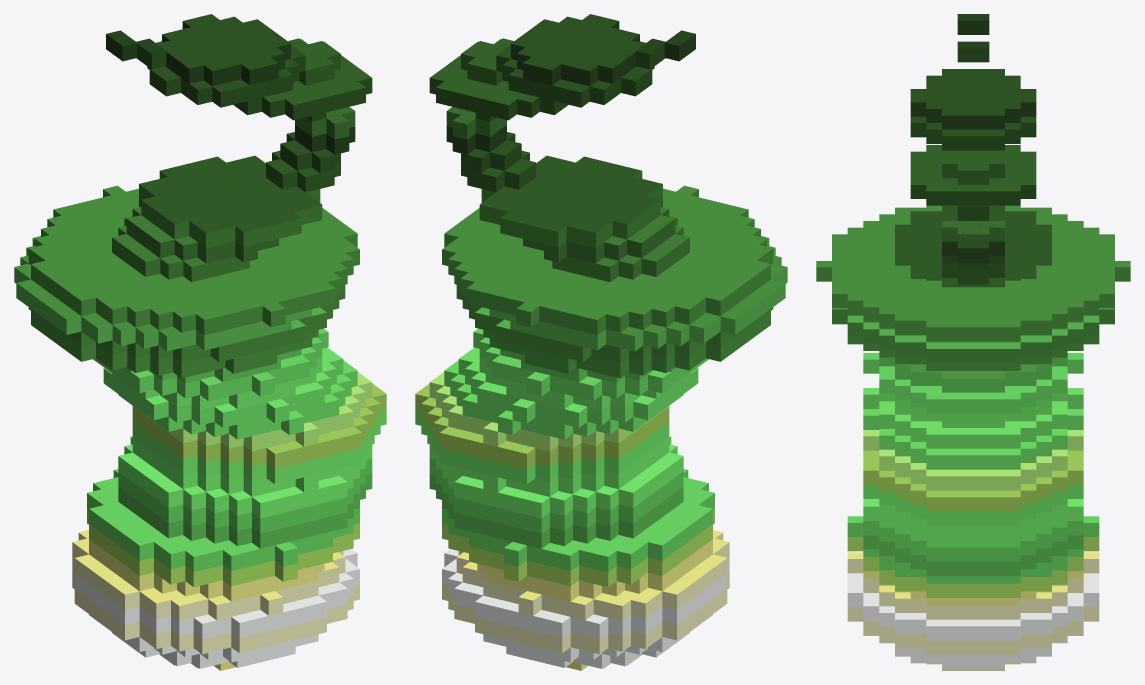
File: SMGTC0_flame.obj
3 views of the same model, side by side, from view 1: azimuth 30°, elevation 25°; view 2: azimuth 150°, elevation 25°; view 3: azimuth 270°, elevation 25° (orthographic). The views are drawn at different scales.
Visible parts, largest first — view 1: TorchFlame; view 2: TorchFlame; view 3: TorchFlame.
Boxes of the visible parts, box(x1,y1,x2,y2) form: TorchFlame: box(14, 14, 386, 670); TorchFlame: box(415, 14, 787, 670); TorchFlame: box(816, 14, 1130, 670).
Size of the model in its own units: 0.5 by 0.9318 by 0.4545.
1 material, 1 textured.
